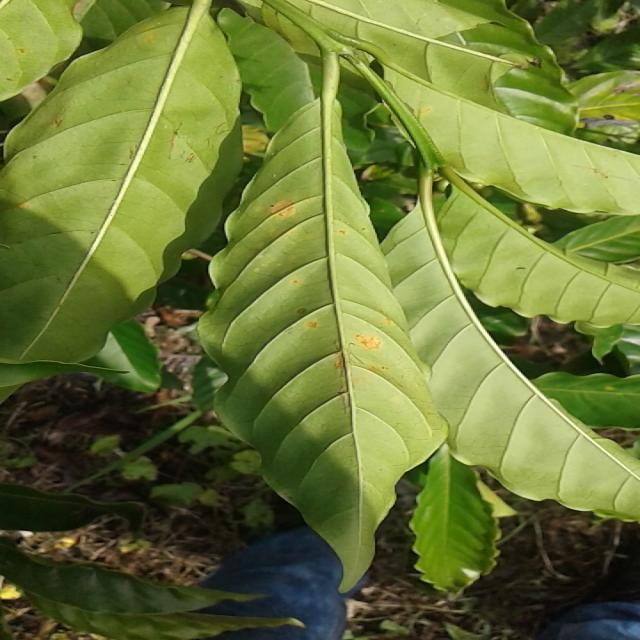Enfermedad-Roya: (196, 54, 447, 595)
